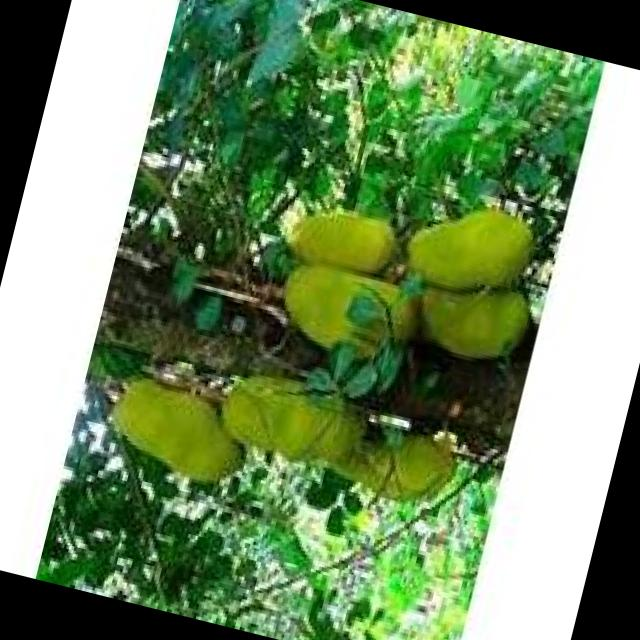Fruit: (383, 172, 557, 330)
